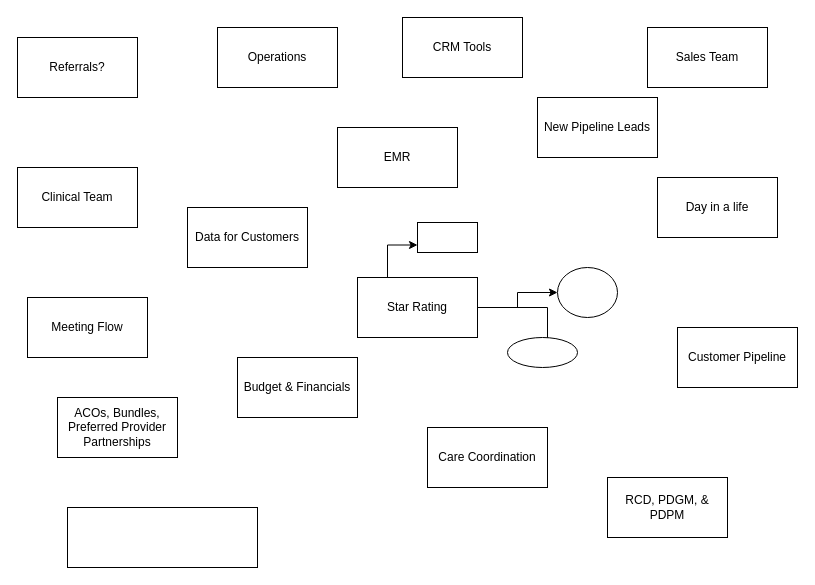
Some shapes in this 815 by 585 pixel diagram are drawn without their labels. The shapes that lost their labels are listed below. From the top down, each one's centre as x and y in pixels, then its label:
(x=447, y=237): Quality
(x=587, y=292): OB 4 start
(x=542, y=352): LZ 3.5 stars
(x=162, y=537): Incentives/Benefits/Performance
